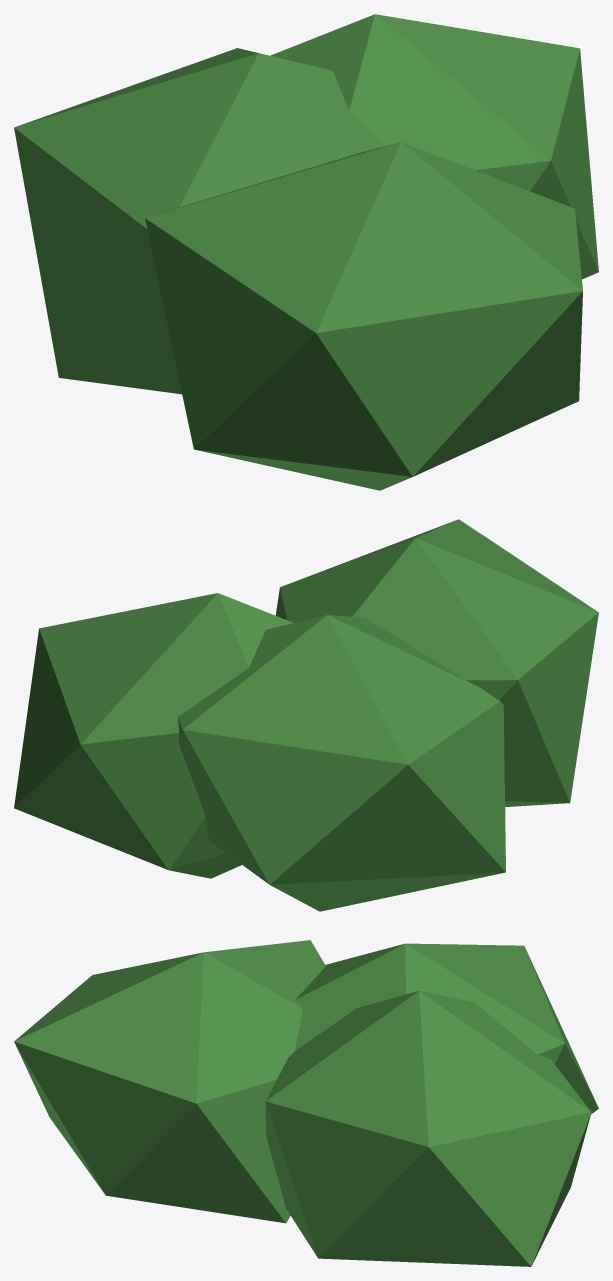
Rendered from Bush_A.glb.
3 views of the same model, one above another, from view 1: azimuth 30°, elevation 25°; view 2: azimuth 150°, elevation 25°; view 3: azimuth 270°, elevation 25° (orthographic). The views are drawn at different scales.
Parts seen in each view (by area): view 1: Bush_A; view 2: Bush_A; view 3: Bush_A.
Boxes of the visible parts, bbox=[...] form: Bush_A: bbox=[14, 14, 598, 490]; Bush_A: bbox=[14, 519, 598, 911]; Bush_A: bbox=[14, 940, 598, 1266].
Bounding box in the file's own units: 1.42 × 0.895 × 1.63.
